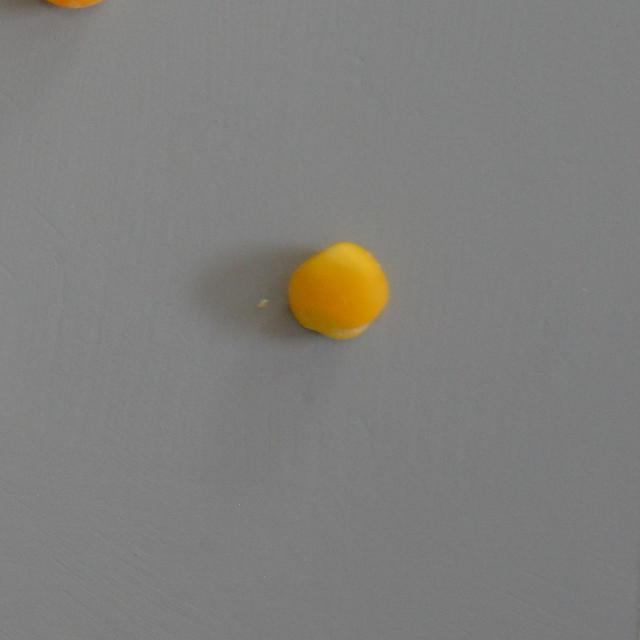no_canjicado: (288, 242, 388, 340), (22, 0, 118, 10)
